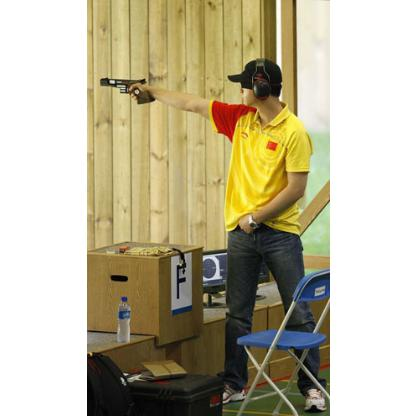gun: (100, 76, 152, 106)
